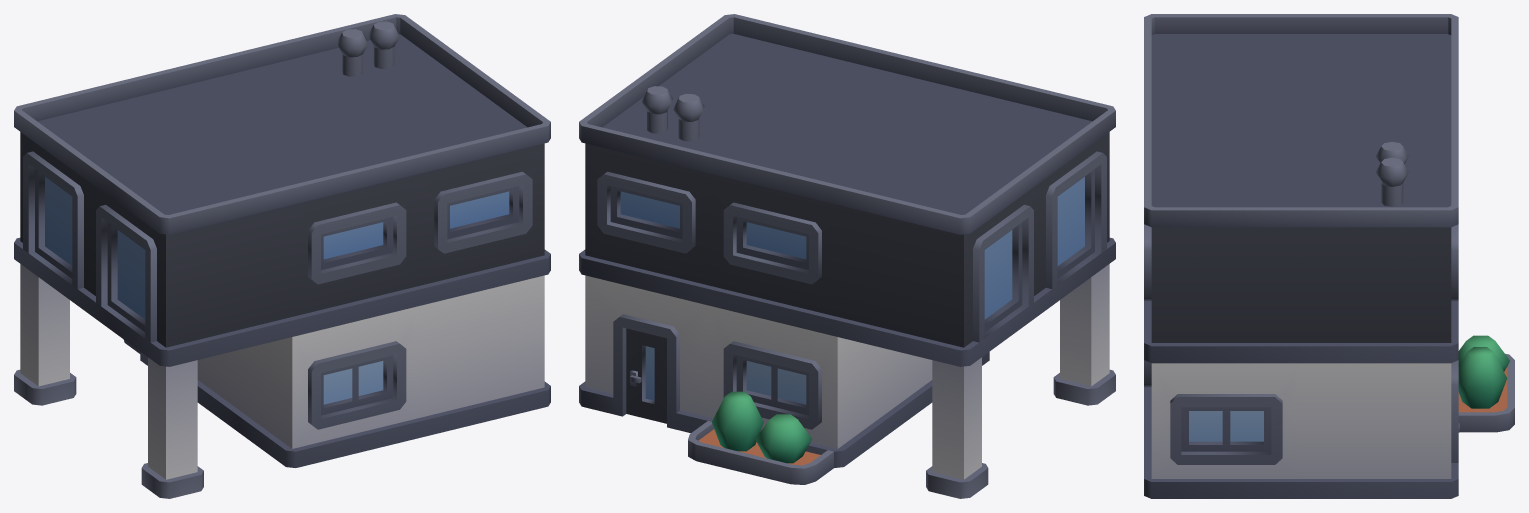
Rendered from building-type-p.glb.
3 views of the same model, side by side, from view 1: azimuth 30°, elevation 25°; view 2: azimuth 150°, elevation 25°; view 3: azimuth 270°, elevation 25° (orthographic). The views are drawn at different scales.
Visible parts, largest first — view 1: building-type-p; view 2: building-type-p; view 3: building-type-p.
Boxes of the visible parts, <box> form: building-type-p: <box>14,14,550,498</box>; building-type-p: <box>579,14,1115,498</box>; building-type-p: <box>1144,14,1514,498</box>.
Bounding box in the file's own units: 1.24 × 0.918 × 0.99.
